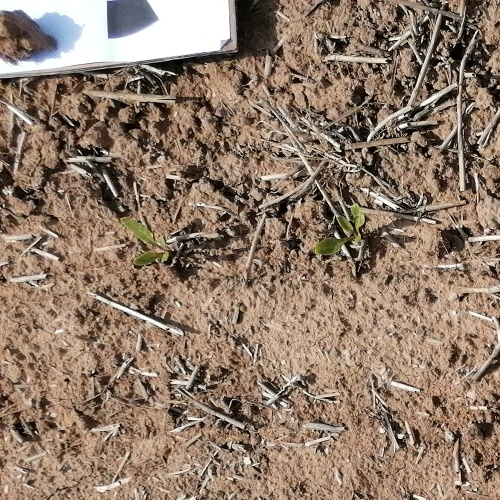beet: (313, 203, 364, 255), (120, 218, 175, 266)
